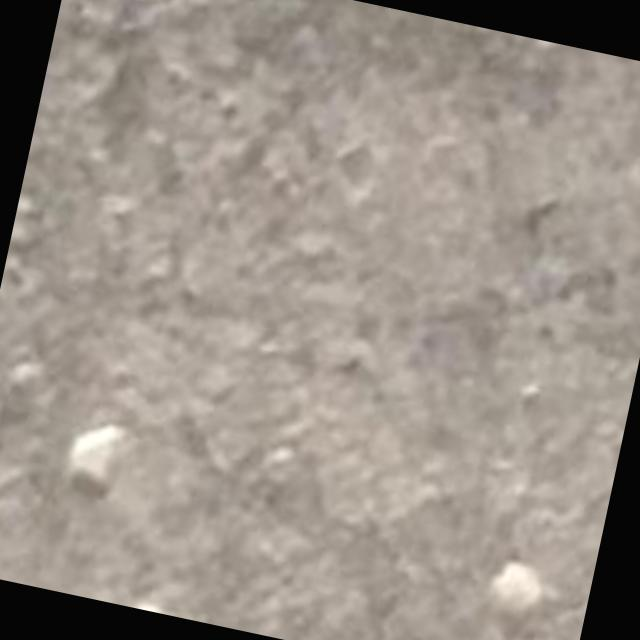peeling plaster: (65, 424, 124, 491)
